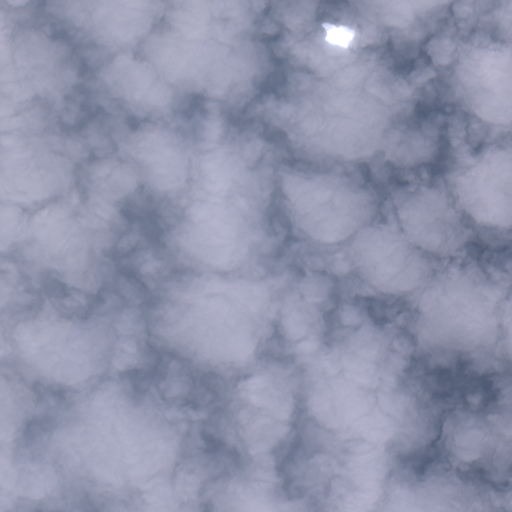Iceberg: (322, 23, 354, 47)
